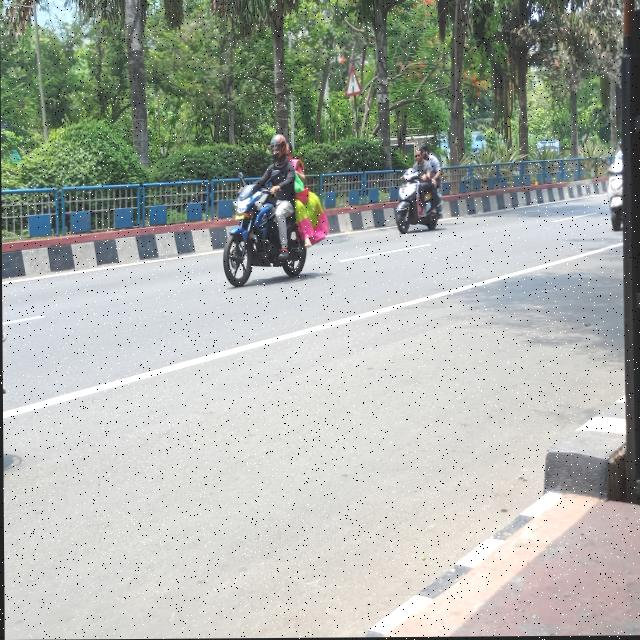bike: (220, 174, 323, 286), (392, 166, 451, 236), (600, 152, 624, 226)
